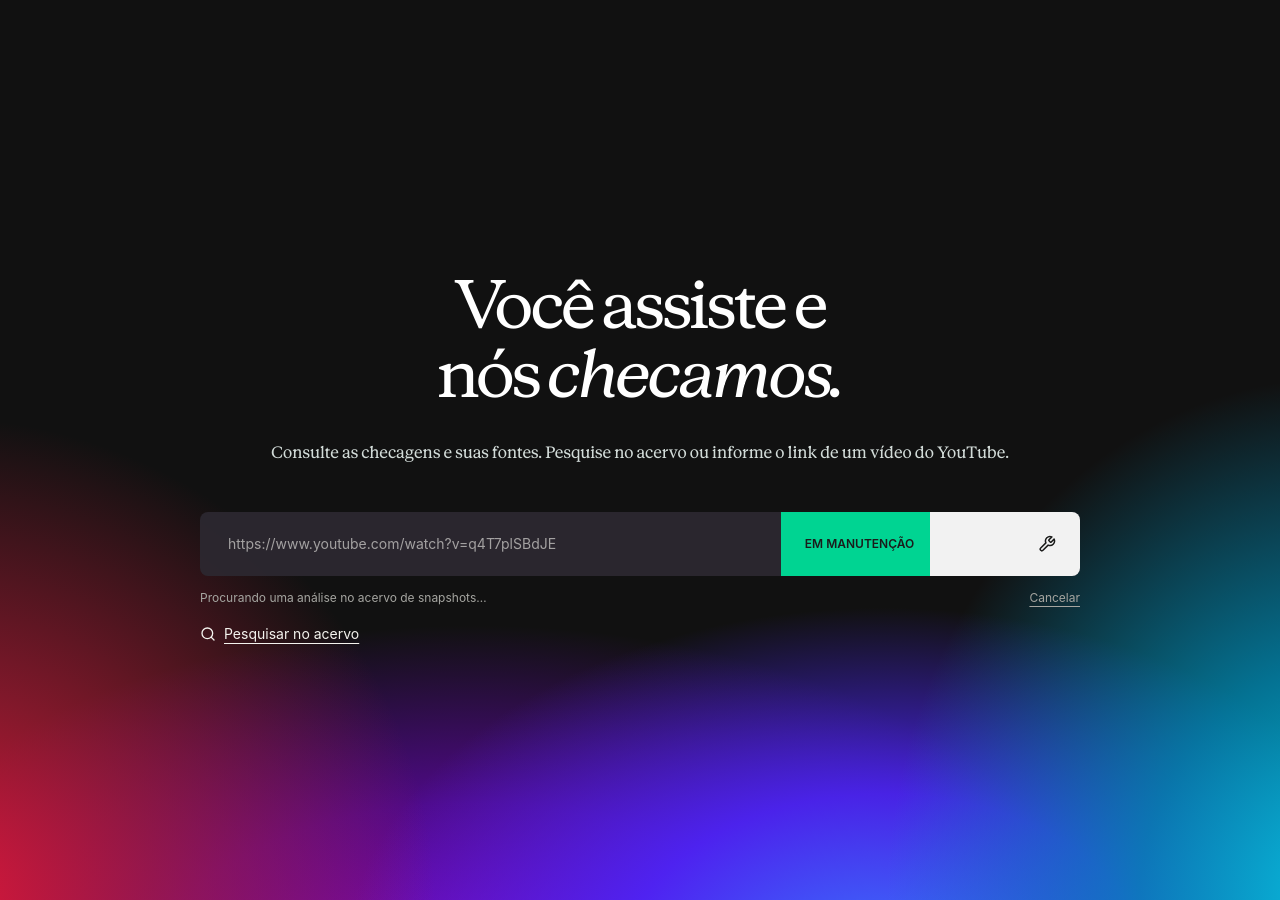
Scenario: fluxo inicial › cancela uma consulta e ignora uma resposta tardia
Click the button "Cancelar". click: click(1055, 598)
box: x1=1029 y1=588 x2=1080 y2=608
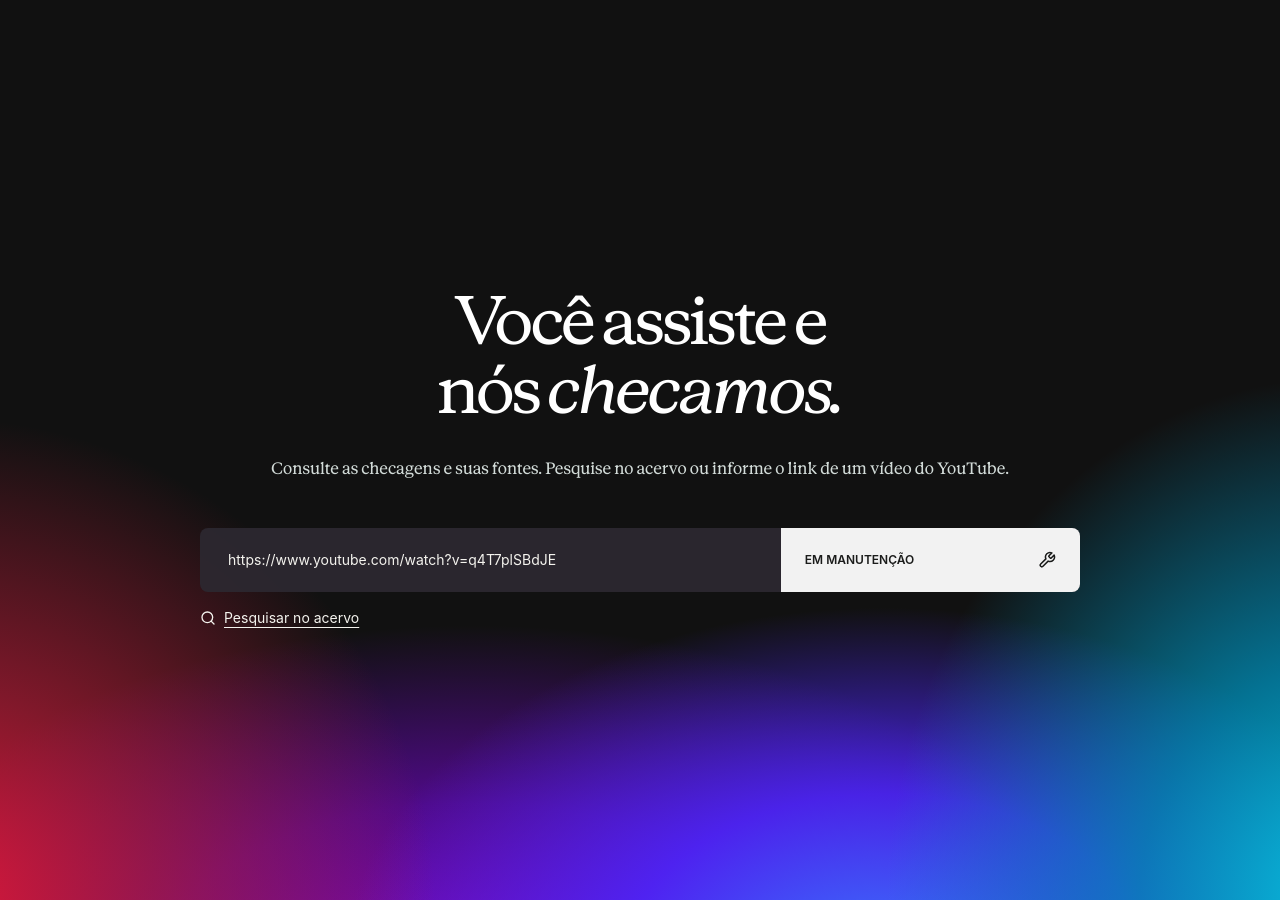
Expected: the button "EM MANUTENÇÃO" is disabled, x1=781 y1=528 x2=1080 y2=592
Now the button "Cancelar" is gone
